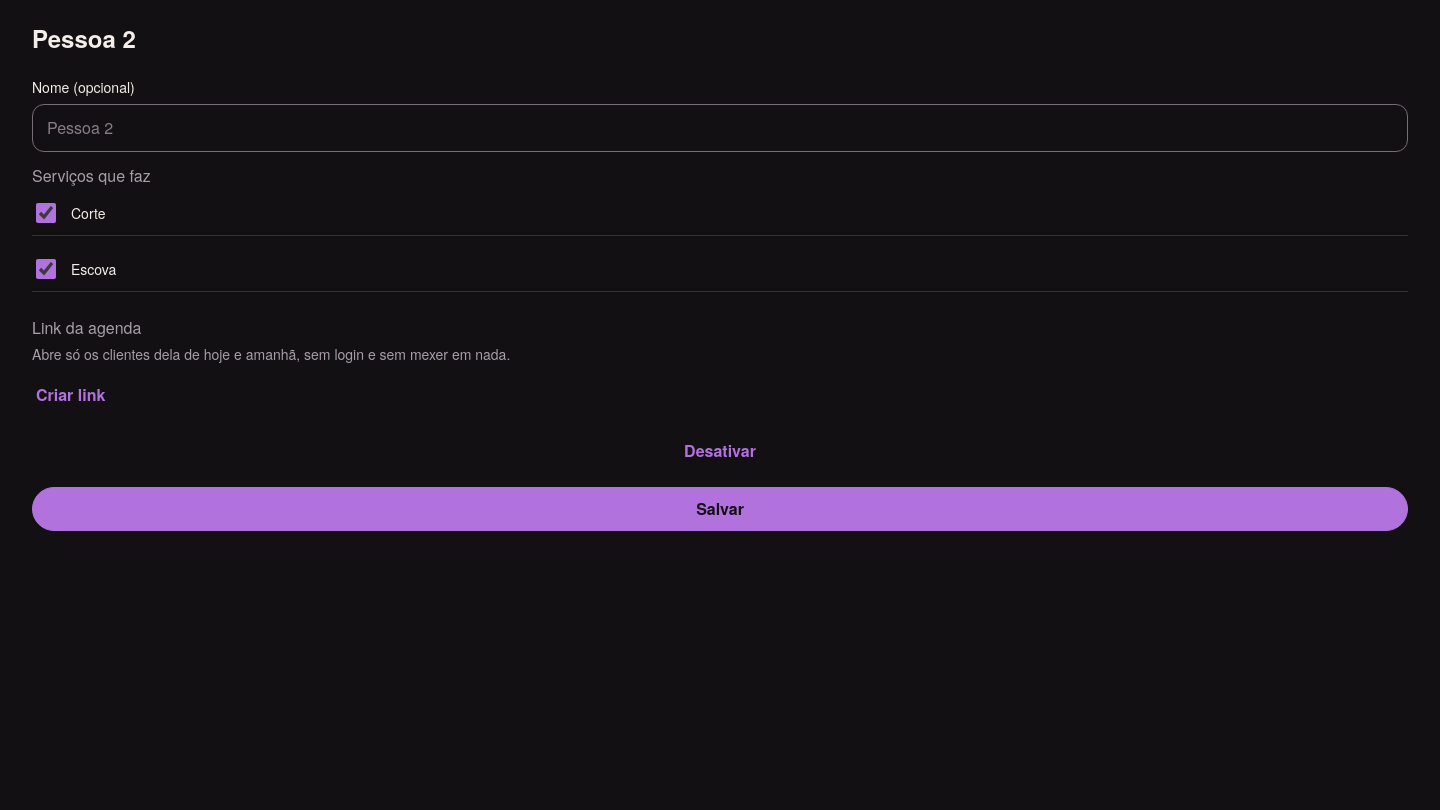
Scenario: PainelPessoa: editar › Desativar com clientes futuros lista dia, hora e nome
The width and height of the screenshot is (1440, 810).
Click the button "Desativar": (720, 451) [680,429,760,473]
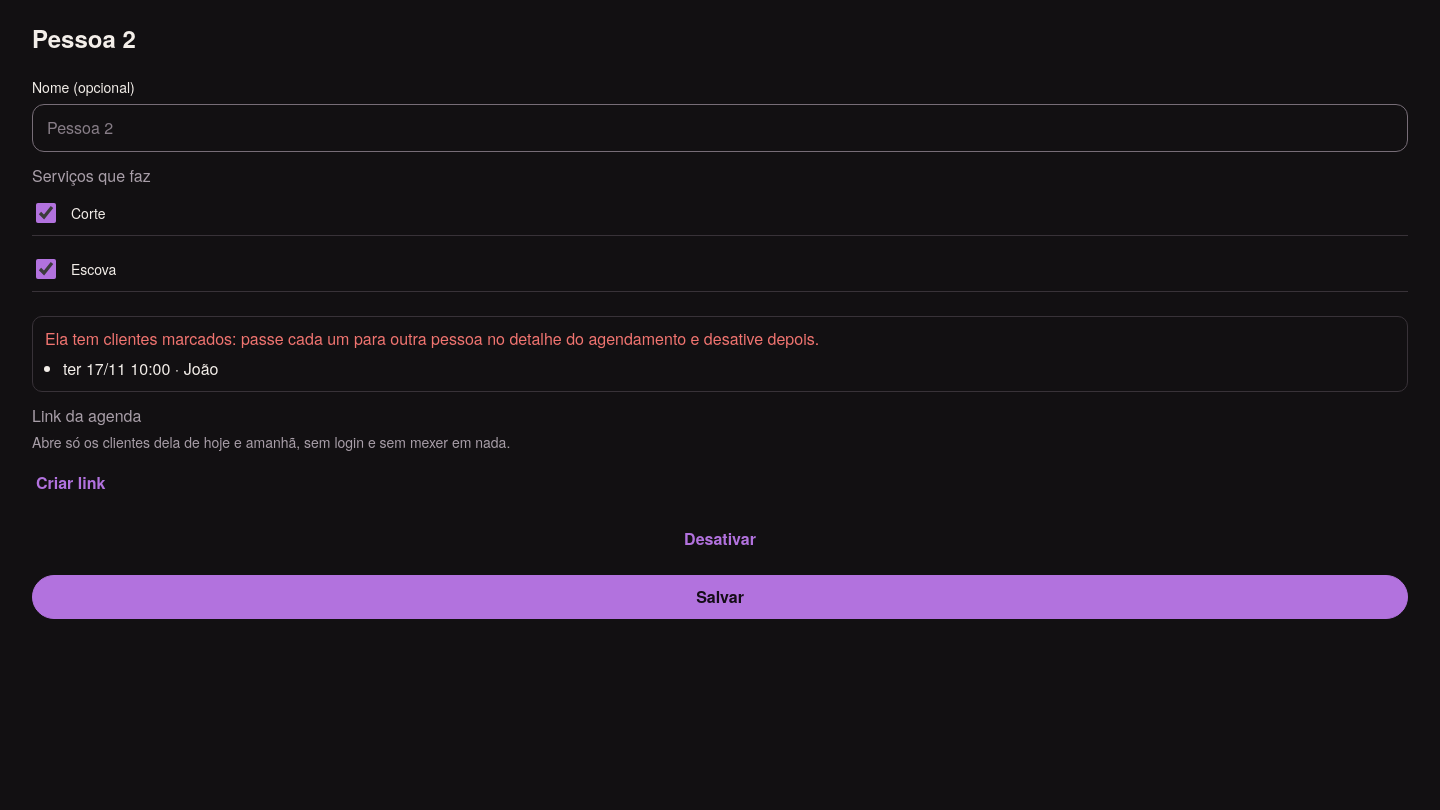
Expected: the message shows "passe cada um para outra pessoa no detalhe do agendamento", [45,327,819,350]
Expected: the message shows "ter 17/11 10:00 · João", [63,357,218,380]
